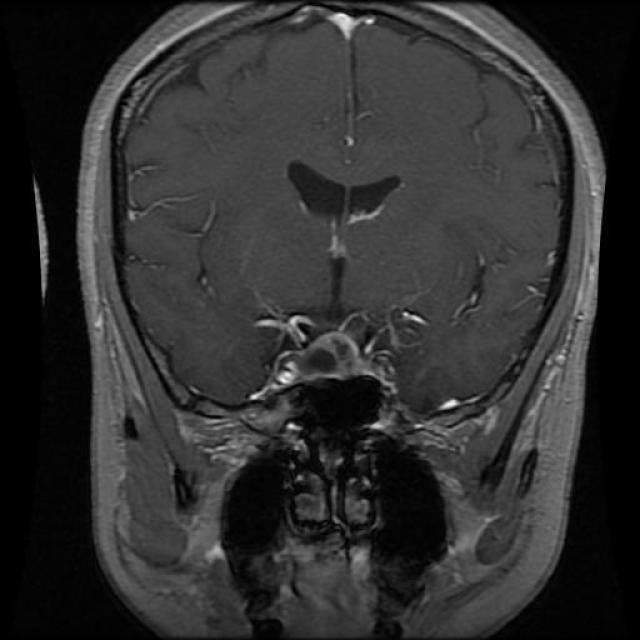pituitary: (252, 306, 392, 402)
